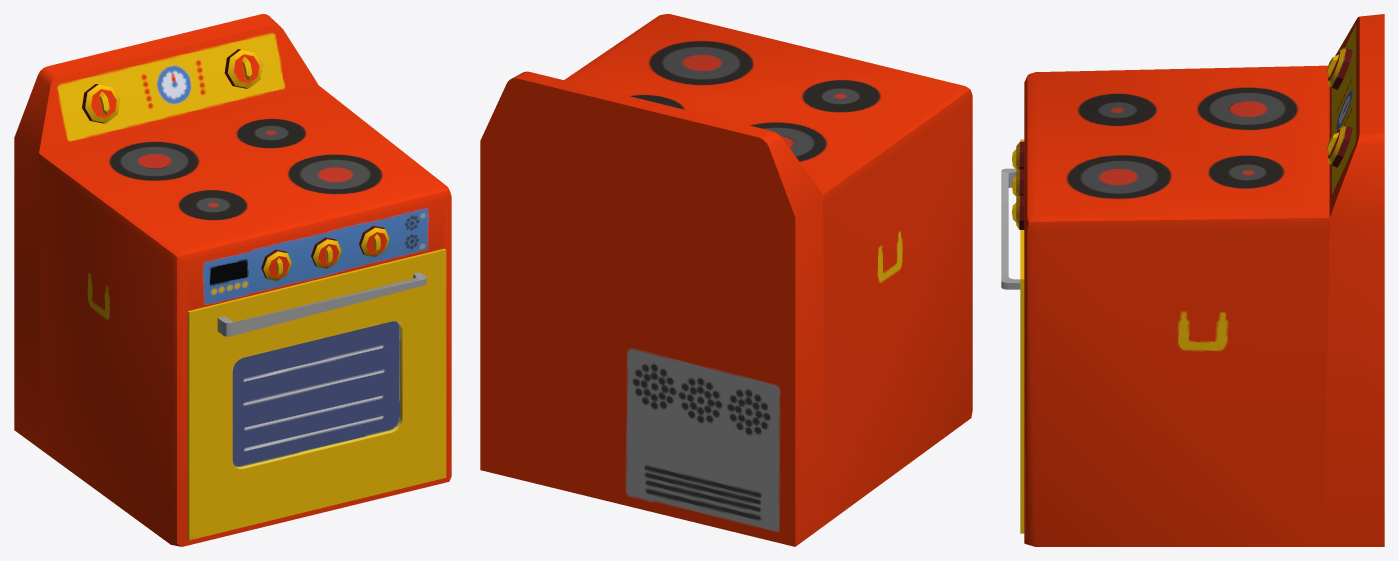
File: Kitchen_oven.fbx
3 views of the same model, side by side, from view 1: azimuth 30°, elevation 25°; view 2: azimuth 150°, elevation 25°; view 3: azimuth 270°, elevation 25° (orthographic). The views are drawn at different scales.
Visible parts, largest first — view 1: Kitchen_oven; view 2: Kitchen_oven; view 3: Kitchen_oven.
Part boxes in pixels (left/top/right/bottom): Kitchen_oven: left=14, top=14, right=451, bottom=546; Kitchen_oven: left=480, top=14, right=972, bottom=546; Kitchen_oven: left=1001, top=14, right=1384, bottom=546.
Bounding box in the file's own units: 94.65 × 115 × 101.
